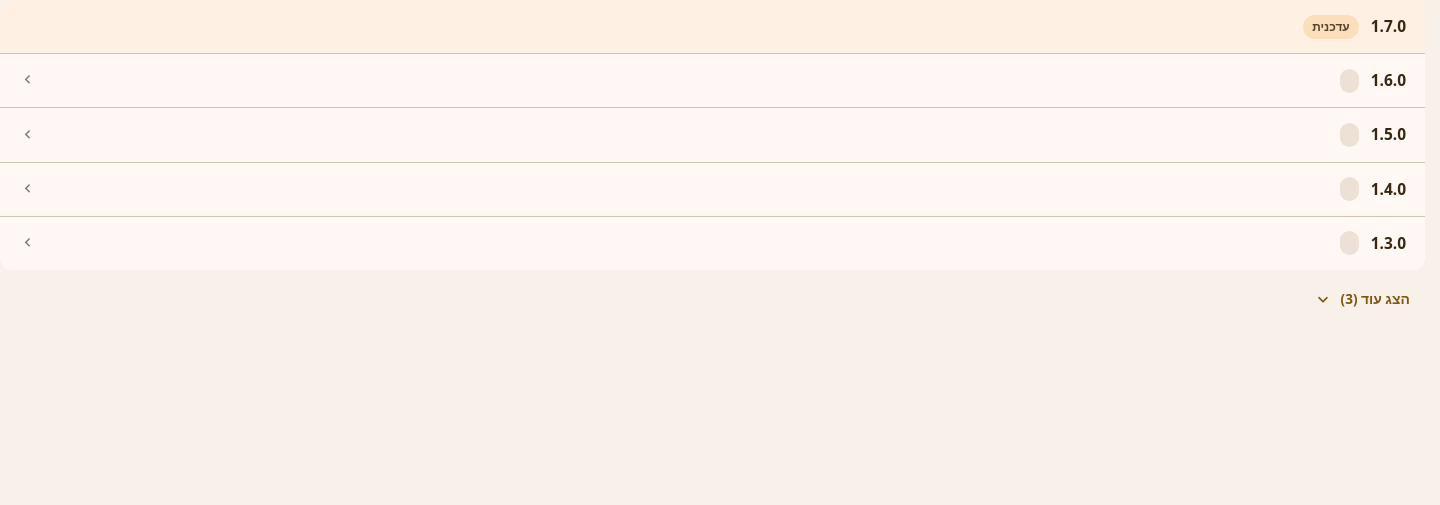
Scenario: PluginVersionHistory › מקוצר ל-5 גרסאות, "הצג עוד" פותח את כולן
expect the number of list items is 5: met, box x1=0 y1=0 x2=1425 y2=54; x1=0 y1=54 x2=1425 y2=108; x1=0 y1=108 x2=1425 y2=163; x1=0 y1=163 x2=1425 y2=217; x1=19 y1=231 x2=1407 y2=255
Click the button "הצג עוד (3)": (1361, 300) x1=1298 y1=278 x2=1425 y2=322
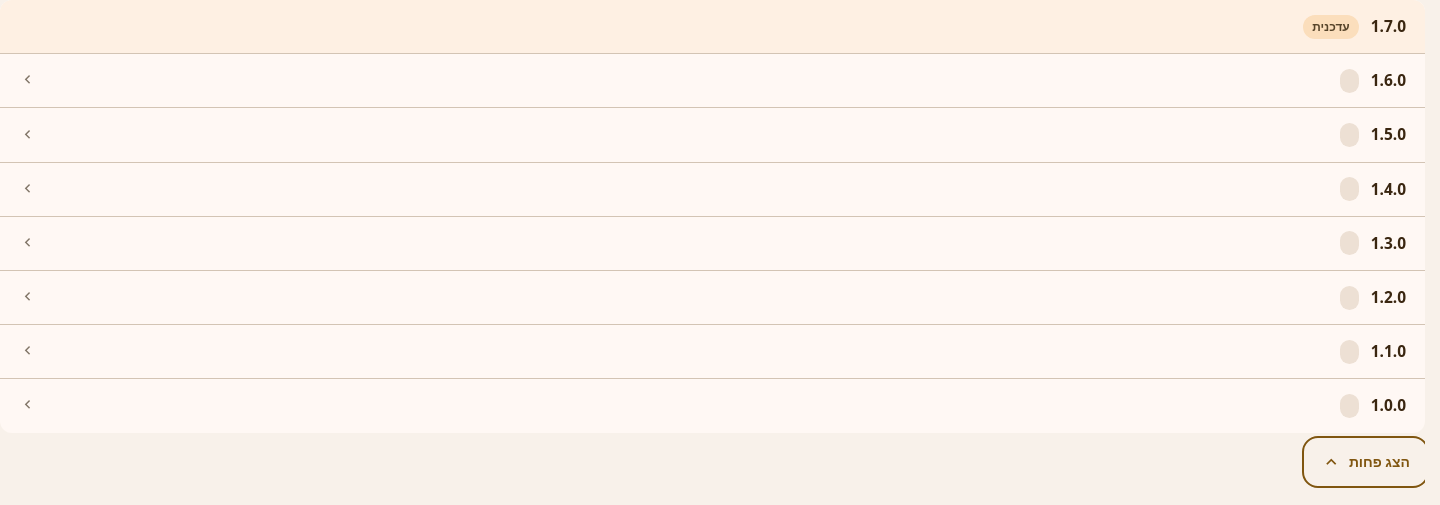
expect the number of list items is 8: met
expect the button "הצג פחות" is expanded: met, box x1=1306 y1=440 x2=1425 y2=484
